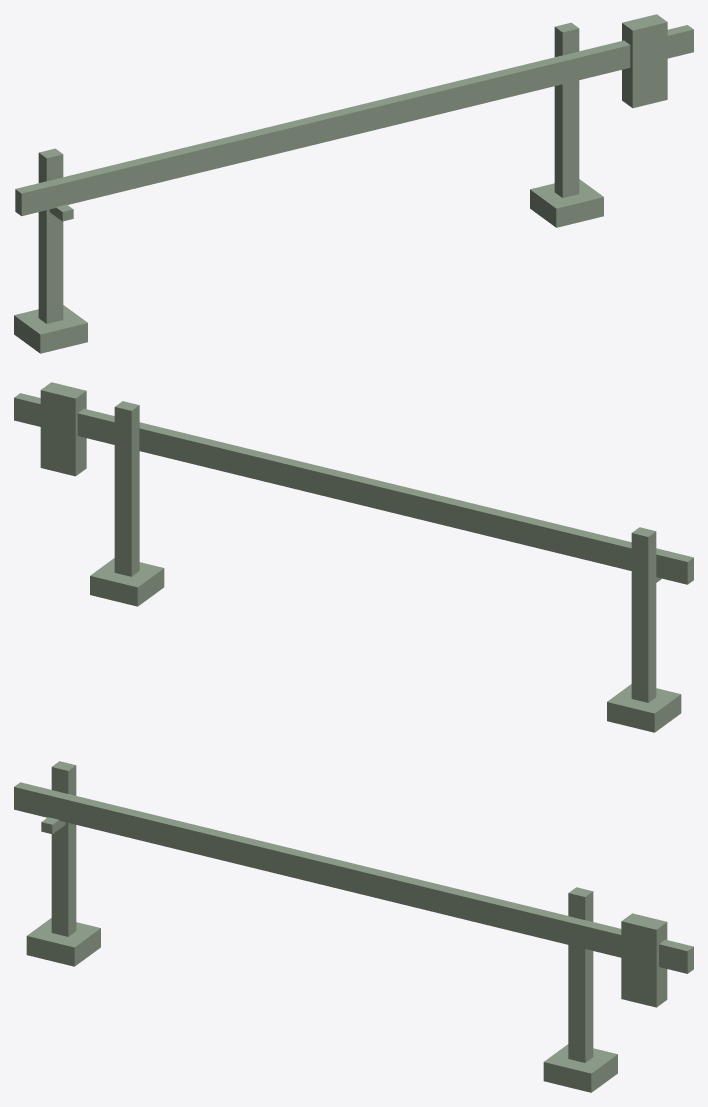
Rendered from barrier.fbx.
3 renders of one model, top to bottom at view 1: azimuth 30°, elevation 25°; view 2: azimuth 150°, elevation 25°; view 3: azimuth 330°, elevation 25°, orthographic.
Visible parts, largest first — view 1: pole, barrier; view 2: pole, barrier; view 3: pole, barrier.
Boxes of the visible parts, x1,y1,x2,y2 form: pole: (15, 14, 693, 216); barrier: (14, 22, 603, 353); pole: (14, 382, 693, 584); barrier: (90, 401, 681, 732); pole: (14, 782, 693, 1007); barrier: (26, 761, 617, 1092).
Bounding box in the file's own units: 5.2 × 1.37 × 0.4047.
